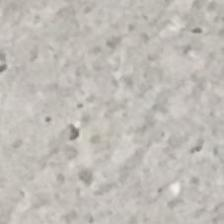Non_Crack: (8, 8, 224, 224)
